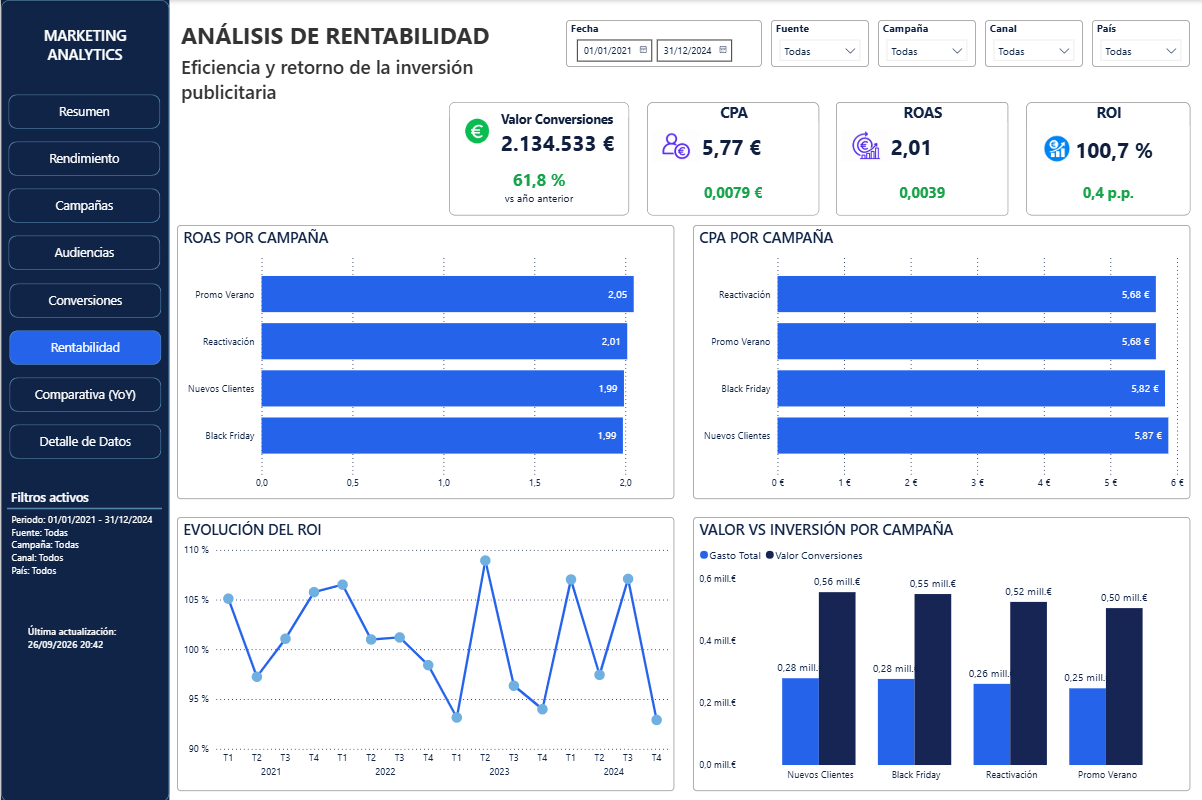

The dashboard page shown, as its layout file describes it:
{"tool":"powerbi","page":{"name":"Rentabilidad","canvas":[1536,1024],"ordinal":5},"visuals":[{"type":"group","id":"g1","title":"Grupo 4","box":[0,0,214.5,1024],"z":0},{"type":"shape","box":[0,0,215,1024],"z":0,"group":"g2"},{"type":"group","id":"g2","title":"Grupo 3","box":[0,0,215,1024],"z":0,"group":"g1"},{"type":"textbox","title":"ANÁLISIS DE RENTABILIDAD","box":[224.7,24.3,462.2,109.8],"z":1000},{"type":"textbox","box":[1.3,26.8,212,68.9],"z":1000,"group":"g2"},{"type":"shape","box":[6.4,117.5,200,50],"z":1000,"group":"g1"},{"type":"slicer","title":"País","fields":{"Values":["DimPais.AudienciaPais"]},"box":[1393,25,125,60],"z":2000},{"type":"shape","box":[6.6,177.7,200,50],"z":2000,"group":"g1"},{"type":"slicer","title":"Fuente","fields":{"Values":["DimFuente.Fuente"]},"box":[983.2,25,125,60],"z":3000},{"type":"shape","box":[6.7,237.9,200,50],"z":3000,"group":"g1"},{"type":"slicer","title":"Canal","fields":{"Values":["DimCanal.CampaniaCanal"]},"box":[1256.4,25,125,60],"z":4000},{"type":"shape","box":[6.9,298,200,50],"z":4000,"group":"g1"},{"type":"slicer","title":"Fecha","fields":{"Values":["DimCalendar.Fecha"]},"box":[721.4,25,250.3,60],"z":5000},{"type":"shape","box":[7.1,358.2,200,50],"z":5000,"group":"g1"},{"type":"shape","box":[7.3,418.4,200,50],"z":6000,"group":"g1"},{"type":"slicer","title":"Campaña","fields":{"Values":["DimCampania.CampaniaNombre"]},"box":[1119.8,25,125,60],"z":7000},{"type":"shape","box":[7.5,478.6,200,50],"z":7000,"group":"g1"},{"type":"clusteredBarChart","title":"ROAS POR CAMPAÑA","fields":{"Category":["DimCampania.CampaniaNombre"],"Y":["_Medidas.ROAS"]},"box":[224.7,287.3,635,350],"z":8000},{"type":"shape","box":[7.7,538.8,200,50],"z":8000,"group":"g1"},{"type":"cardVisual","title":"ROI","fields":{"Data":["Medidas.ROI","Medidas.Variación ROI YoY p.p."]},"box":[1308.7,130.2,210,145],"z":9000},{"type":"textbox","box":[7.7,619.3,199.2,33.2],"z":9000},{"type":"cardVisual","title":"ROAS","fields":{"Data":["Medidas.ROAS","Medidas.Variación ROAS YoY"]},"box":[1066.5,130.2,220,145],"z":10000},{"type":"cardVisual","title":"CPA","fields":{"Data":["Medidas.CPA","Medidas.Variación CPA YoY €"]},"box":[824.2,130.2,220,145],"z":11000},{"type":"cardVisual","fields":{"Data":["Medidas.Valor Conversiones","Medidas.Variación Valor Conversiones YoY %"]},"box":[572,130.2,230,145],"z":12000},{"type":"clusteredBarChart","title":"CPA POR CAMPAÑA","fields":{"Category":["DimCampania.CampaniaNombre"],"Y":["_Medidas.CPA"]},"box":[883.6,287.3,635,350],"z":13000},{"type":"lineChart","title":"EVOLUCIÓN DEL ROI","fields":{"Category":["DimCalendar.#Año","DimCalendar.Trimestre"],"Y":["_Medidas.ROI"]},"box":[224.7,660.1,635,350],"z":14000},{"type":"clusteredColumnChart","title":"VALOR VS INVERSIÓN POR CAMPAÑA","fields":{"Category":["DimCampania.CampaniaNombre"],"Y":["_Medidas.Gasto Total","_Medidas.Valor Conversiones"]},"box":[883.6,660.1,635,350],"z":15000},{"type":"cardVisual","fields":{"Data":["Medidas.Última Actualización"]},"box":[20.4,766.1,169.8,93.2],"z":15001},{"type":"cardVisual","fields":{"Data":["_Medidas.Filtros Activos - Resumen"]},"box":[1.3,619.3,213.2,150.7],"z":15002},{"type":"shape","box":[7.7,635.9,197.9,26.8],"z":15003}]}

Visuals, with their boxes in screenshot pixels (x1, y1, x2, y2), scaled from the page's 1536x1024 canvas onto the 1202x800 screenshot:
"Grupo 4" group: [0,0,168,799]
shape: [0,0,168,799]
"Grupo 3" group: [0,0,168,799]
"ANÁLISIS DE RENTABILIDAD" textbox: [176,19,538,105]
textbox: [1,21,167,75]
shape: [5,92,162,131]
"País" slicer: [1090,20,1188,66]
shape: [5,139,162,178]
"Fuente" slicer: [769,20,867,66]
shape: [5,186,162,225]
"Canal" slicer: [983,20,1081,66]
shape: [5,233,162,272]
"Fecha" slicer: [565,20,760,66]
shape: [6,280,162,319]
shape: [6,327,162,366]
"Campaña" slicer: [876,20,974,66]
shape: [6,374,162,413]
"ROAS POR CAMPAÑA" clusteredBarChart: [176,224,673,498]
shape: [6,421,163,460]
"ROI" cardVisual: [1024,102,1188,215]
textbox: [6,484,162,510]
"ROAS" cardVisual: [835,102,1007,215]
"CPA" cardVisual: [645,102,817,215]
cardVisual - Medidas.Valor Conversiones x Medidas.Variación Valor Conversiones YoY %: [448,102,628,215]
"CPA POR CAMPAÑA" clusteredBarChart: [691,224,1188,498]
"EVOLUCIÓN DEL ROI" lineChart: [176,516,673,789]
"VALOR VS INVERSIÓN POR CAMPAÑA" clusteredColumnChart: [691,516,1188,789]
cardVisual - Medidas.Última Actualización: [16,599,149,671]
cardVisual - _Medidas.Filtros Activos - Resumen: [1,484,168,602]
shape: [6,497,161,518]
